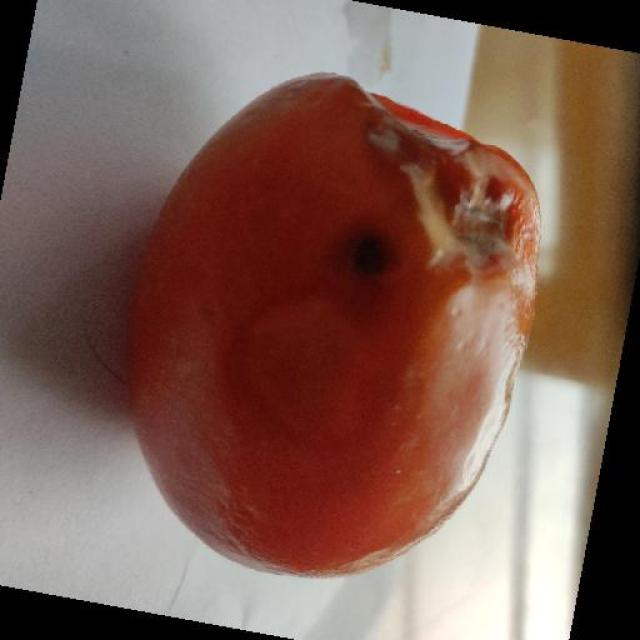Stale_tomato: (100, 70, 533, 553)
